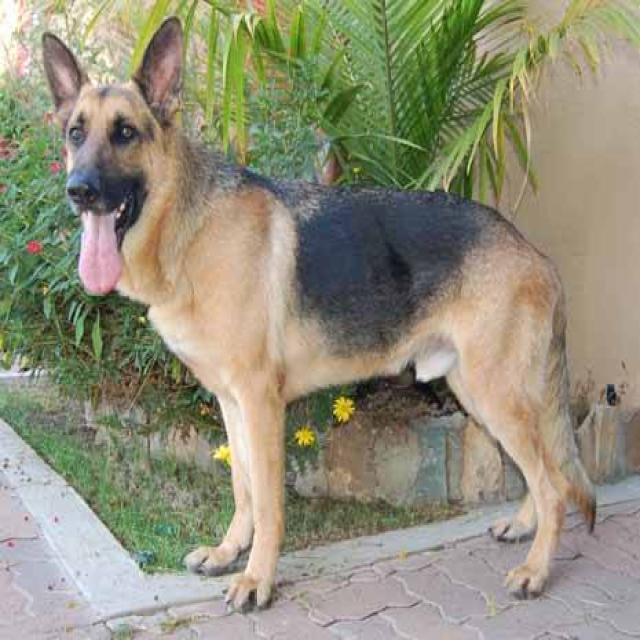dog: (39, 13, 598, 613)
